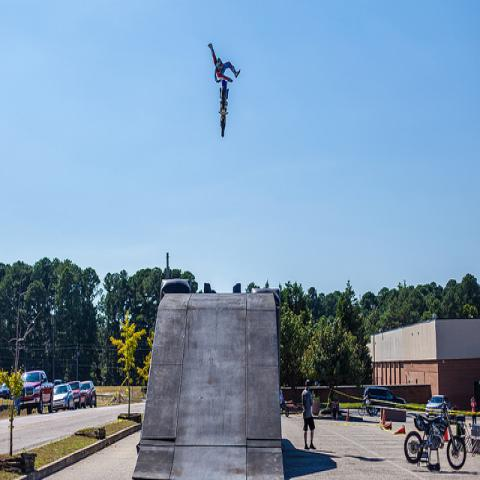car: (363, 387, 407, 416), (53, 383, 75, 411), (426, 394, 451, 418), (81, 380, 97, 408), (1, 383, 12, 399)
motorcycle: (404, 401, 466, 468), (218, 80, 229, 138), (280, 401, 289, 417)
truck: (14, 369, 54, 415), (67, 381, 88, 410)
